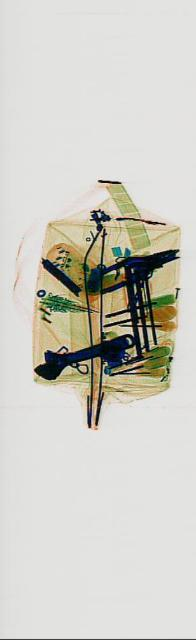Pliers: (116, 237, 177, 285)
Wrench: (32, 320, 133, 386)
